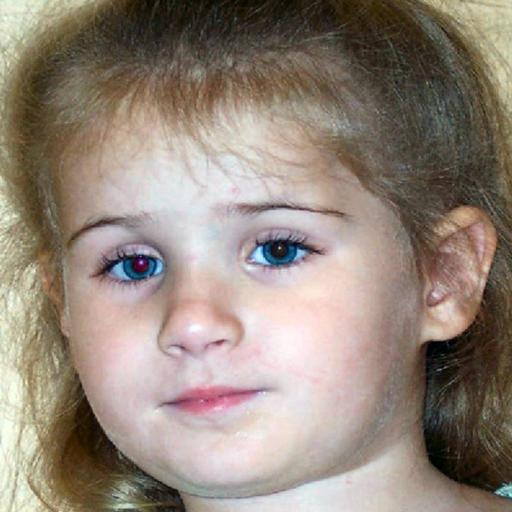Autism: (10, 6, 493, 483)
